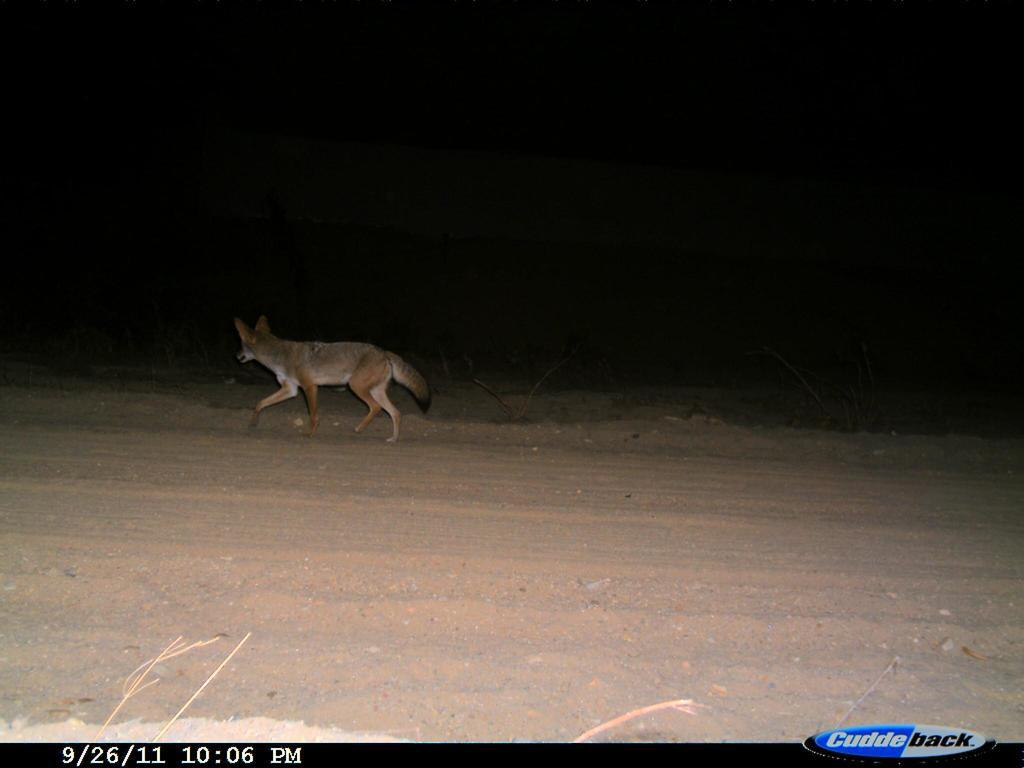coyote: (222, 308, 443, 450)
